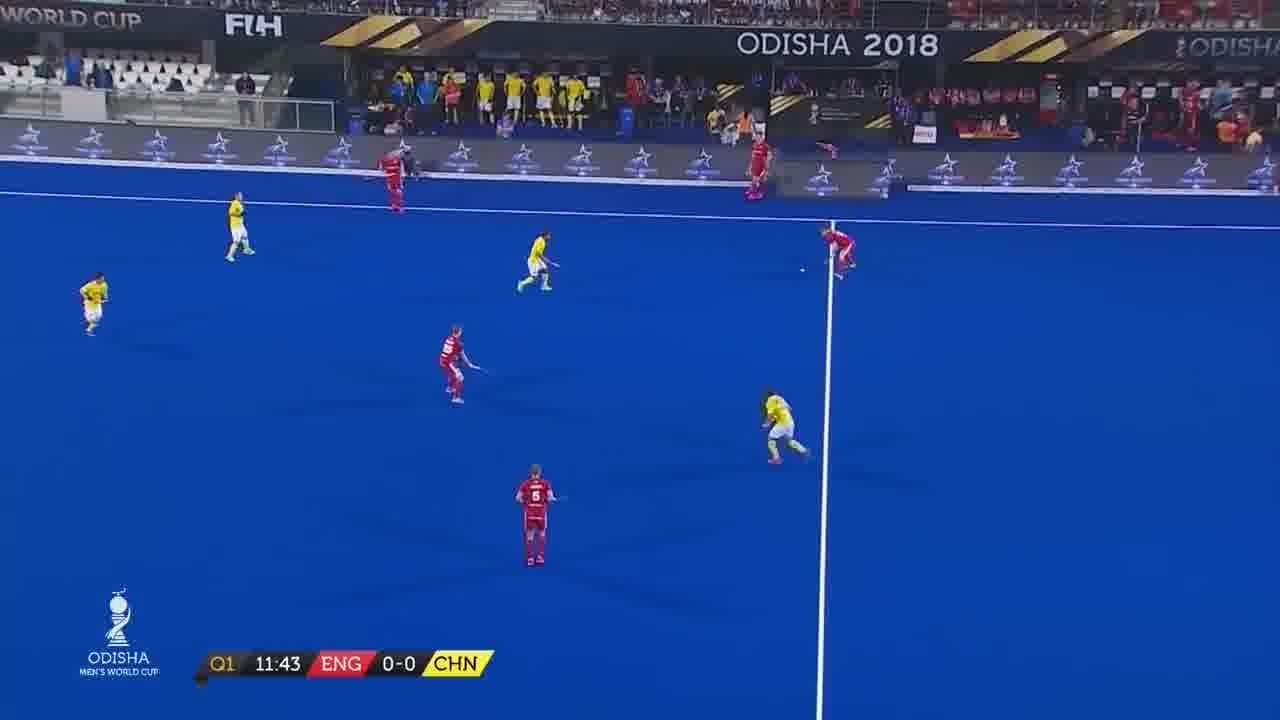ball: (794, 261, 812, 281)
